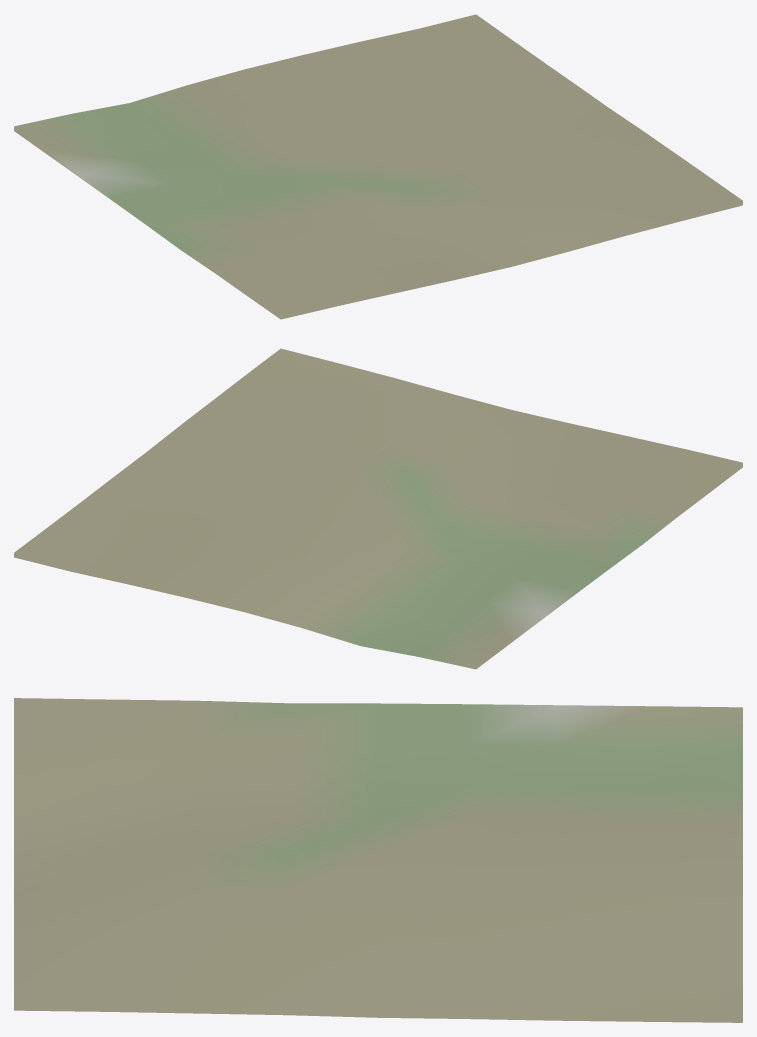
The picture shows the model from 3 angles, top to bottom: view 1: azimuth 30°, elevation 25°; view 2: azimuth 150°, elevation 25°; view 3: azimuth 270°, elevation 25°; orthographic projection. The views are drawn at different scales.
Parts seen in each view (by area): view 1: prim0; view 2: prim0; view 3: prim0.
Boxes of the visible parts, x1,y1,x2,y2 form: prim0: (14,14,742,319); prim0: (14,348,742,669); prim0: (14,698,742,1022).
Size of the model in its own units: 512 by 18.84 by 512.
